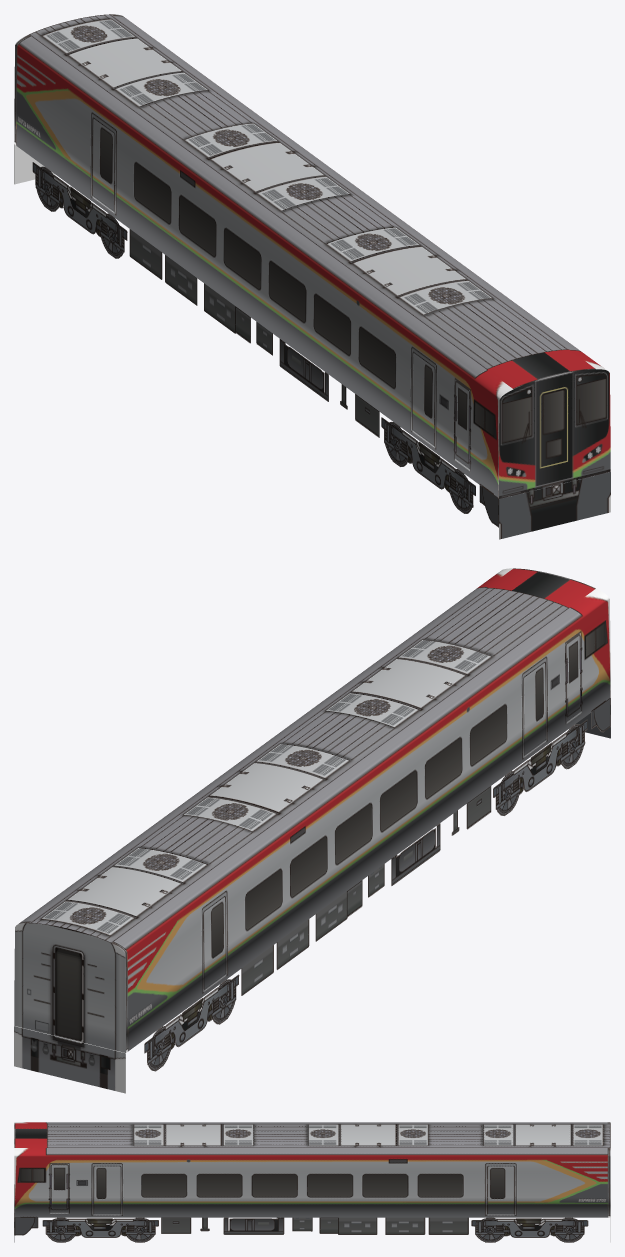
Rendered from car1.glb.
3 views of the same model, one above another, from view 1: azimuth 30°, elevation 25°; view 2: azimuth 150°, elevation 25°; view 3: azimuth 270°, elevation 25° (orthographic). The views are drawn at different scales.
Parts seen in each view (by area): view 1: tosakuroshio-2700-car1; view 2: tosakuroshio-2700-car1; view 3: tosakuroshio-2700-car1.
Boxes of the visible parts, box(x1,y1,x2,y2) form: tosakuroshio-2700-car1: box(14, 14, 610, 539); tosakuroshio-2700-car1: box(14, 568, 610, 1093); tosakuroshio-2700-car1: box(14, 1122, 610, 1242).
Bounding box in the file's own units: 2.8 × 3.6 × 21.07.
Materials: 8 (7 with a texture image).
